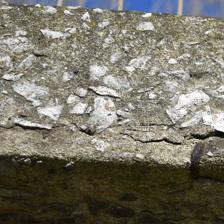Crack: (64, 62, 160, 87)
